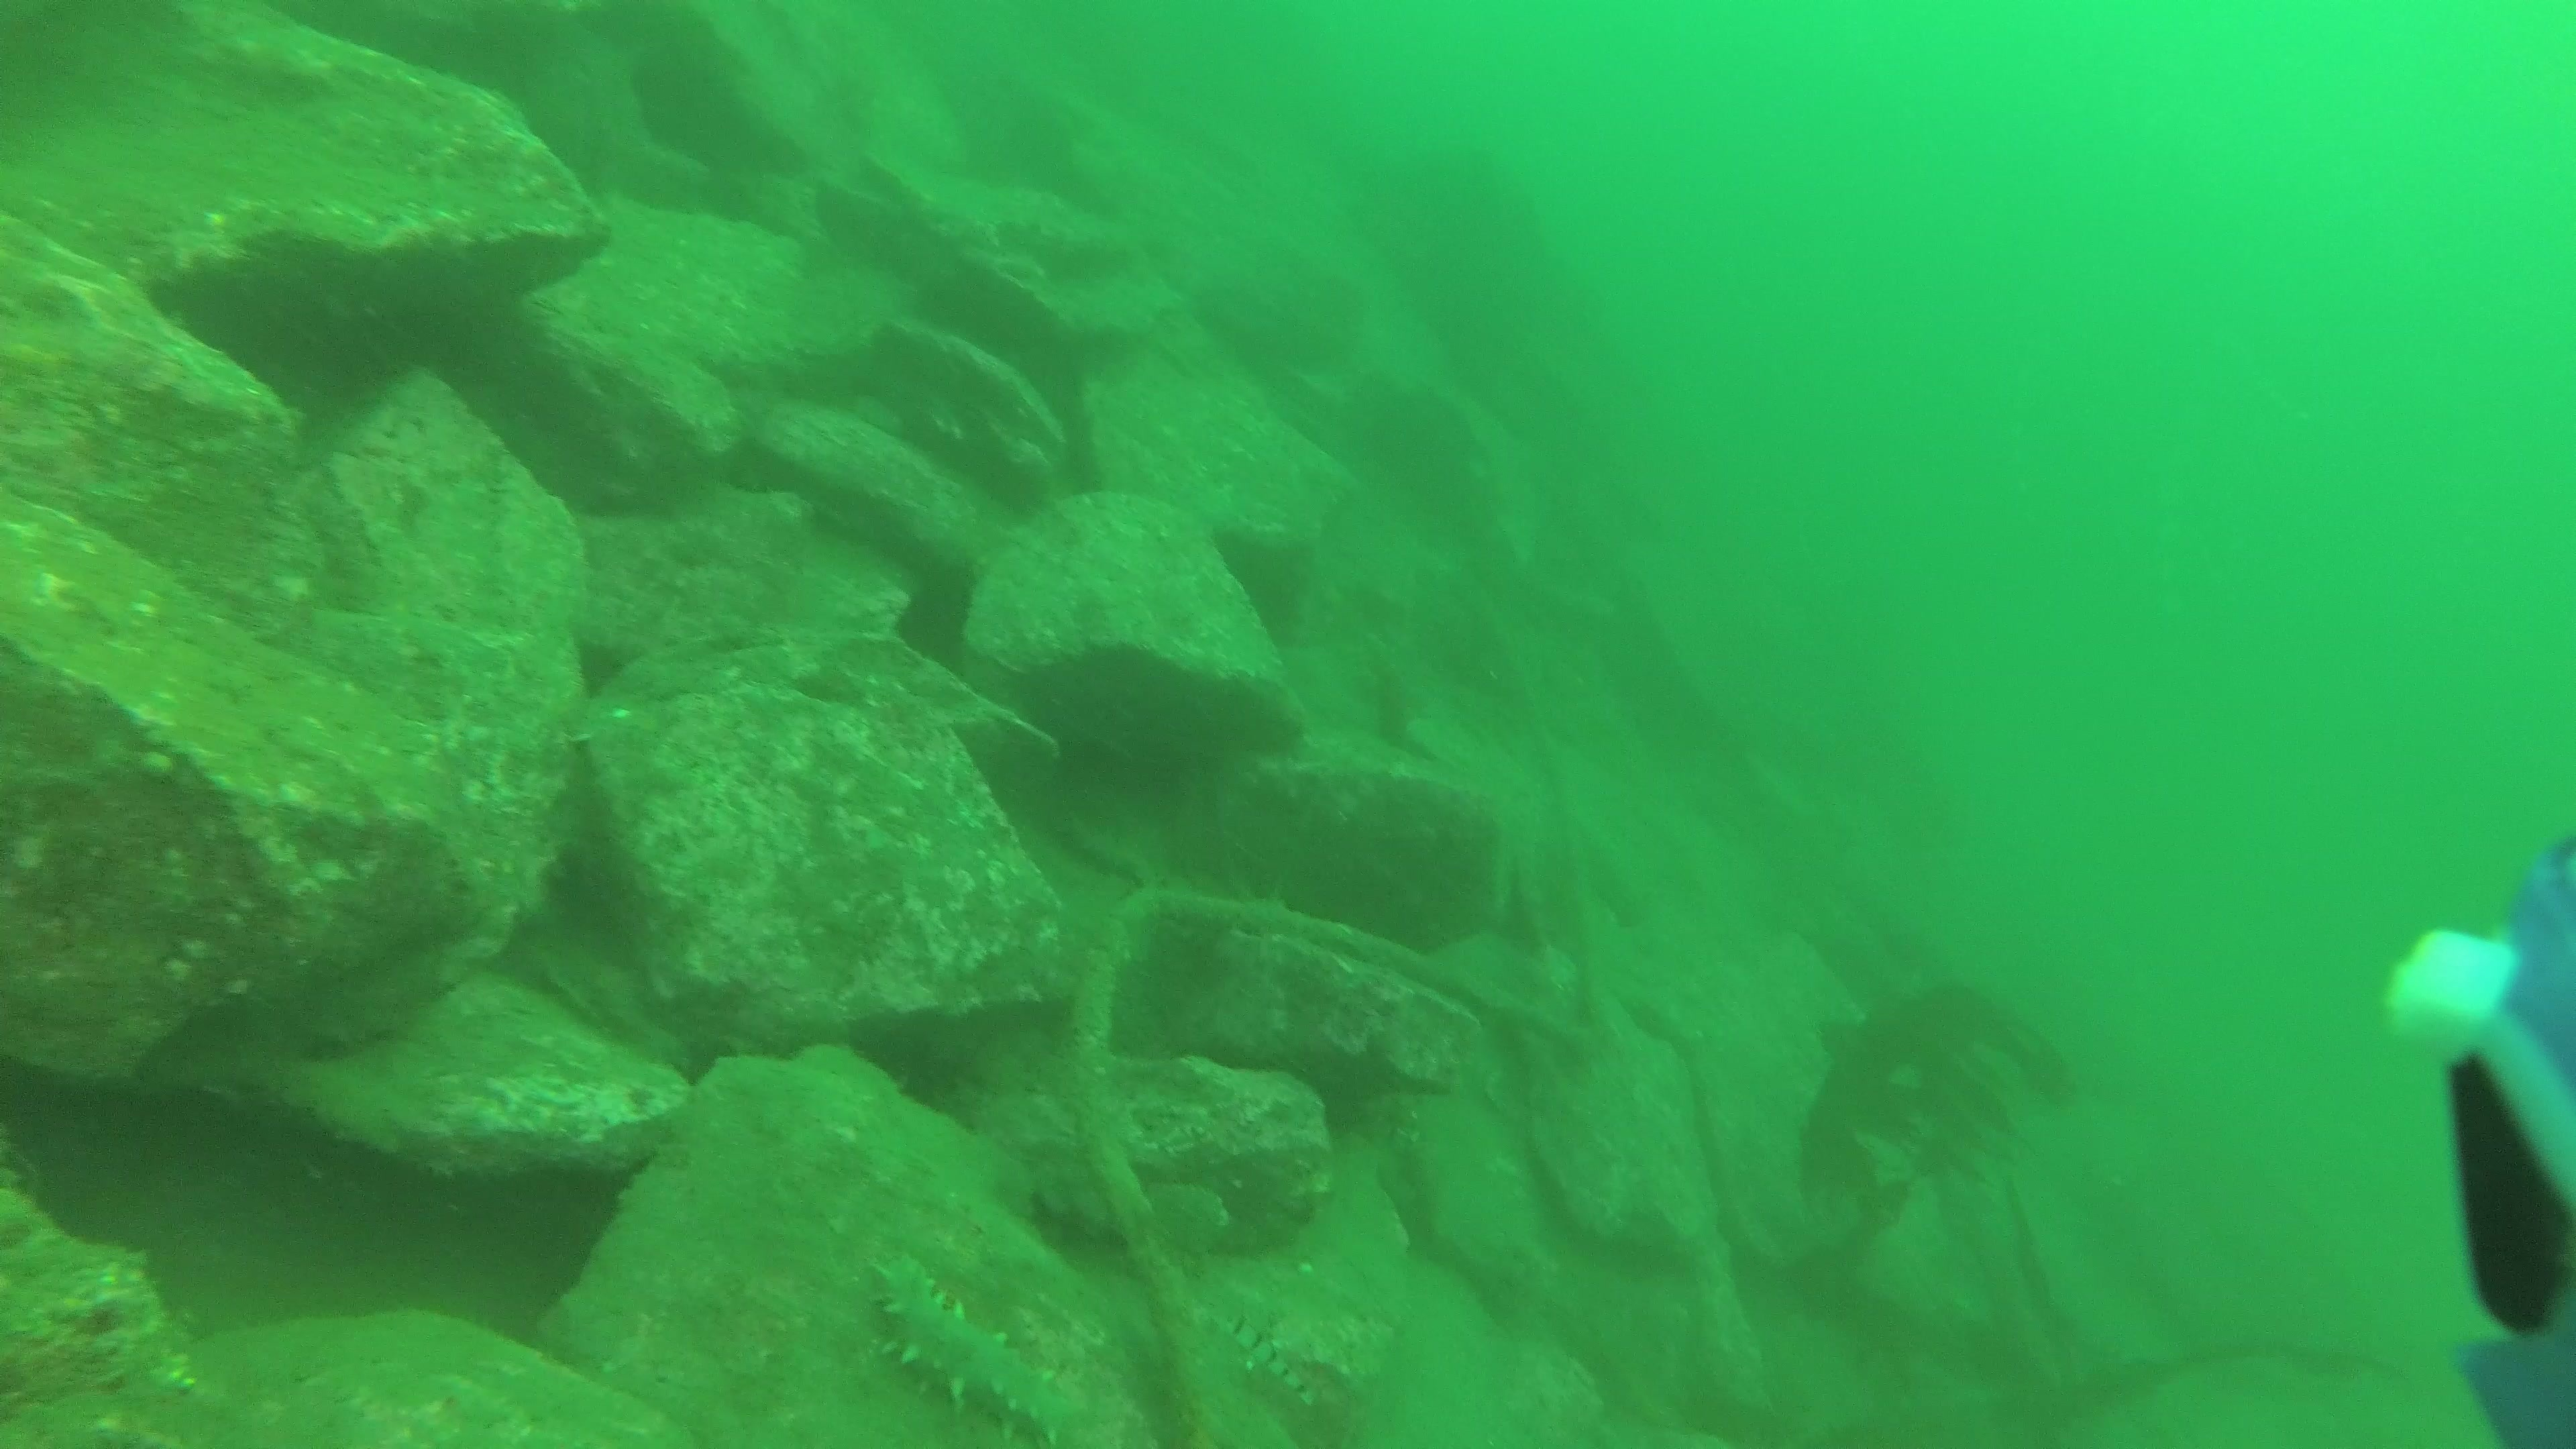holothurian: (858, 1238, 1076, 1449)
